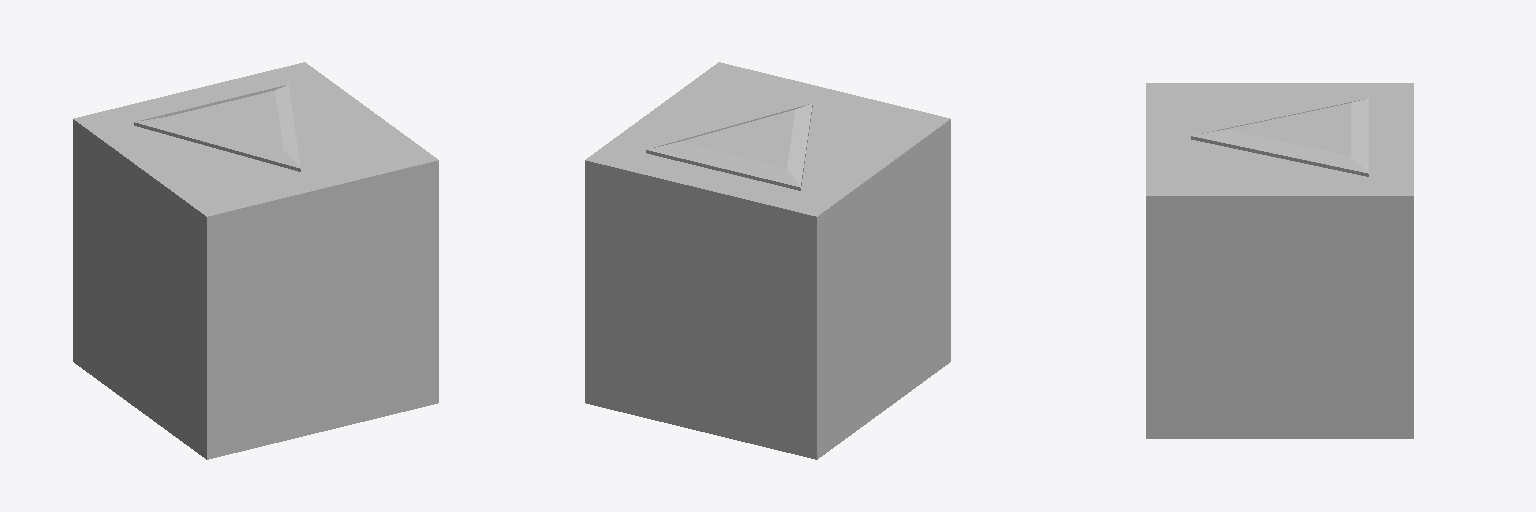
Rendered from spawnpoint.obj.
3 views of the same model, side by side, from view 1: azimuth 30°, elevation 25°; view 2: azimuth 150°, elevation 25°; view 3: azimuth 270°, elevation 25° (orthographic).
Parts seen in each view (by area): view 1: Cube; view 2: Cube; view 3: Cube.
Boxes of the visible parts, <box> form: Cube: <box>73,62,438,459</box>; Cube: <box>585,62,950,459</box>; Cube: <box>1146,83,1413,438</box>.
Size of the model in its own units: 1 by 1.04 by 1.